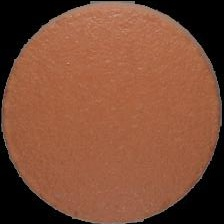12634-629: (0, 0, 224, 224)
